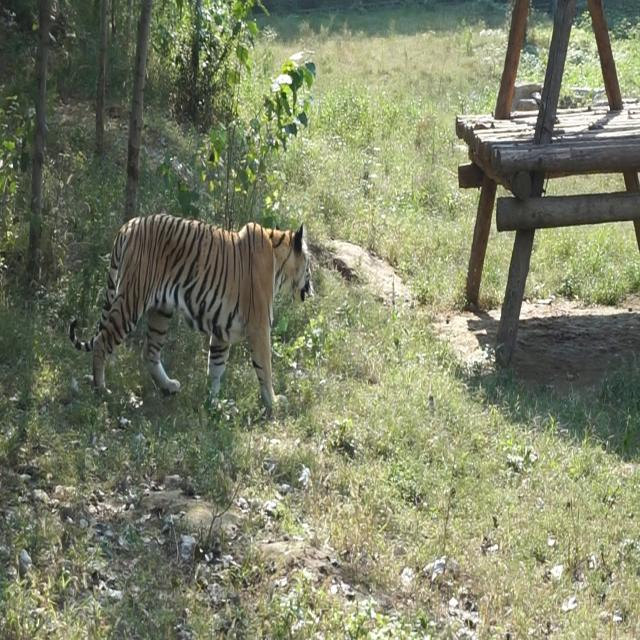Tiger: (60, 199, 340, 432)
